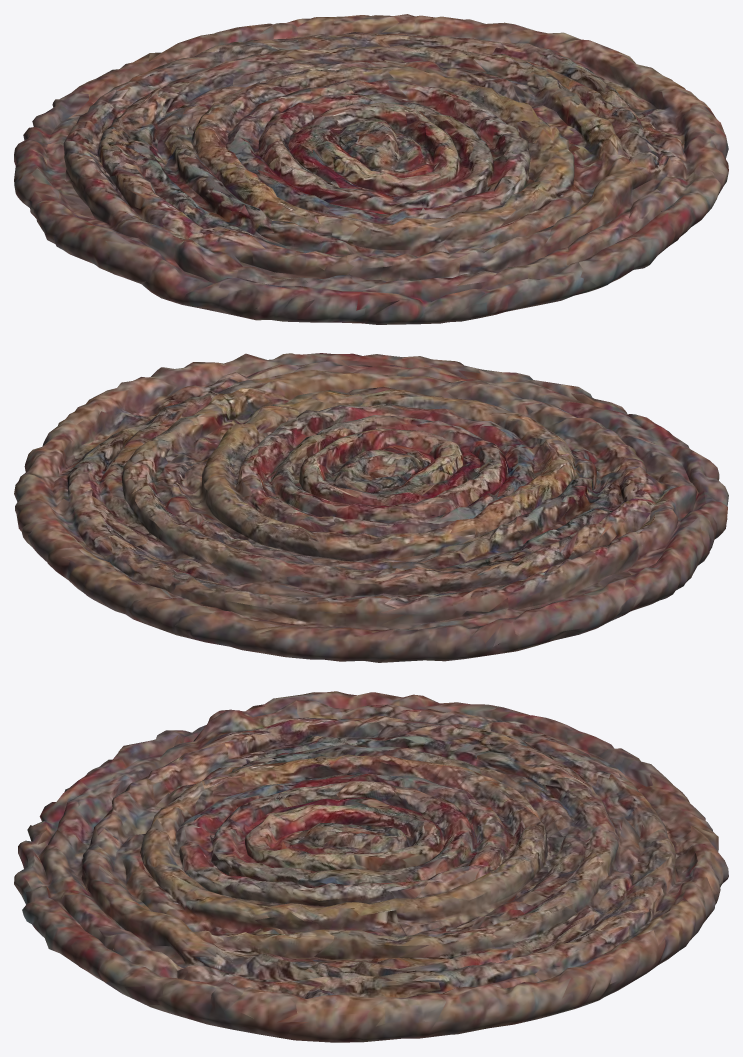
The model's file is rug_round_braided_idle.glb.
3 views of the same model, one above another, from view 1: azimuth 30°, elevation 25°; view 2: azimuth 150°, elevation 25°; view 3: azimuth 270°, elevation 25° (orthographic). The views are drawn at different scales.
Visible parts, largest first — view 1: tripo_node_0790b3c5-ca44-4061-8a25-73a88b21470f; view 2: tripo_node_0790b3c5-ca44-4061-8a25-73a88b21470f; view 3: tripo_node_0790b3c5-ca44-4061-8a25-73a88b21470f.
Part boxes in pixels (bbox=[...]): tripo_node_0790b3c5-ca44-4061-8a25-73a88b21470f: bbox=[14, 14, 728, 324]; tripo_node_0790b3c5-ca44-4061-8a25-73a88b21470f: bbox=[14, 353, 728, 662]; tripo_node_0790b3c5-ca44-4061-8a25-73a88b21470f: bbox=[14, 691, 728, 1042].
Bounding box in the file's own units: 1.2 × 0.1147 × 1.14.
Materials: 1 (1 with a texture image).
